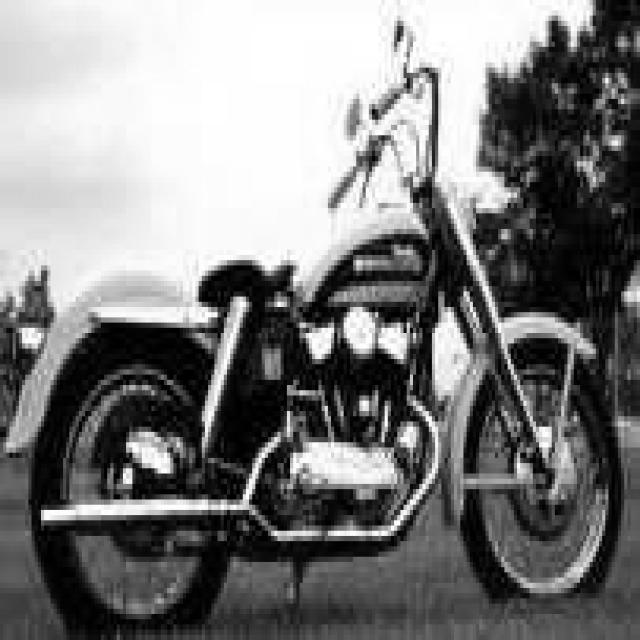Motorcycle: (9, 66, 620, 634)
